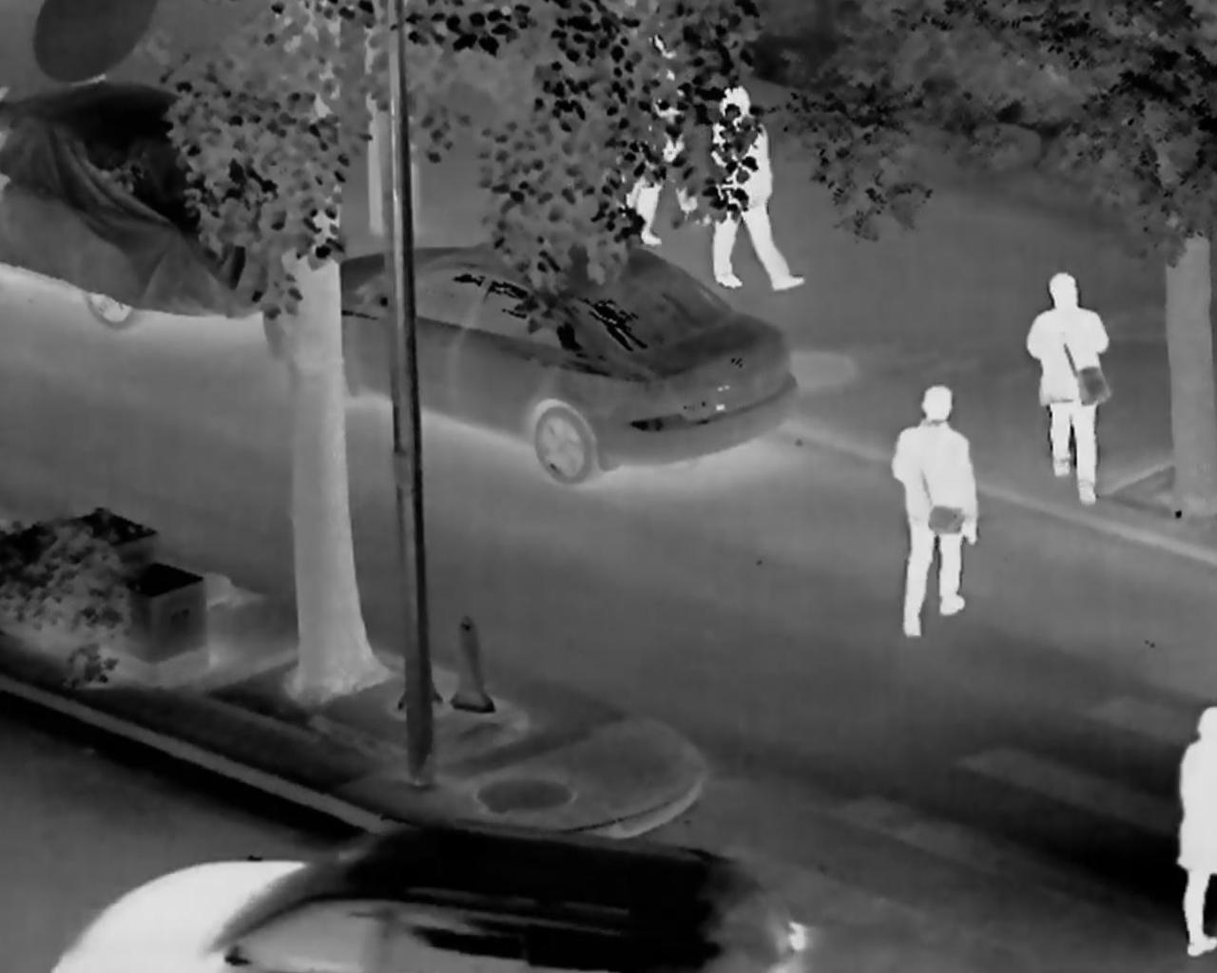person: (706, 84, 809, 293), (1026, 272, 1113, 512), (892, 384, 971, 637), (1178, 707, 1216, 958)
